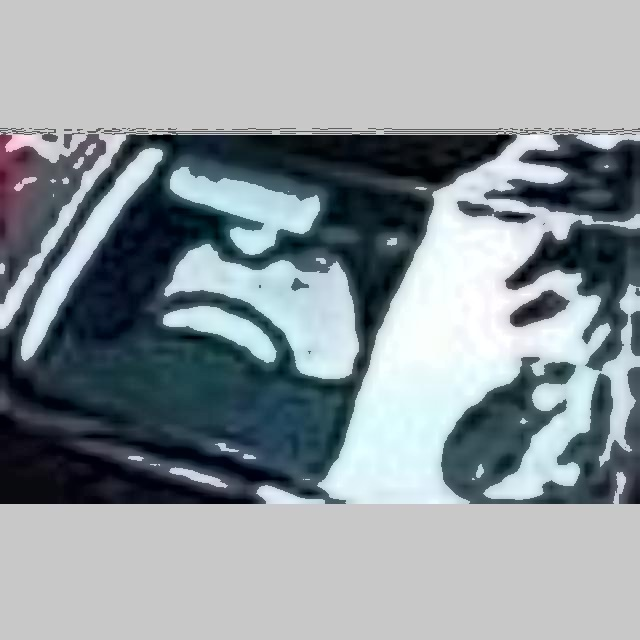tidak-pakai: (142, 192, 356, 384)
